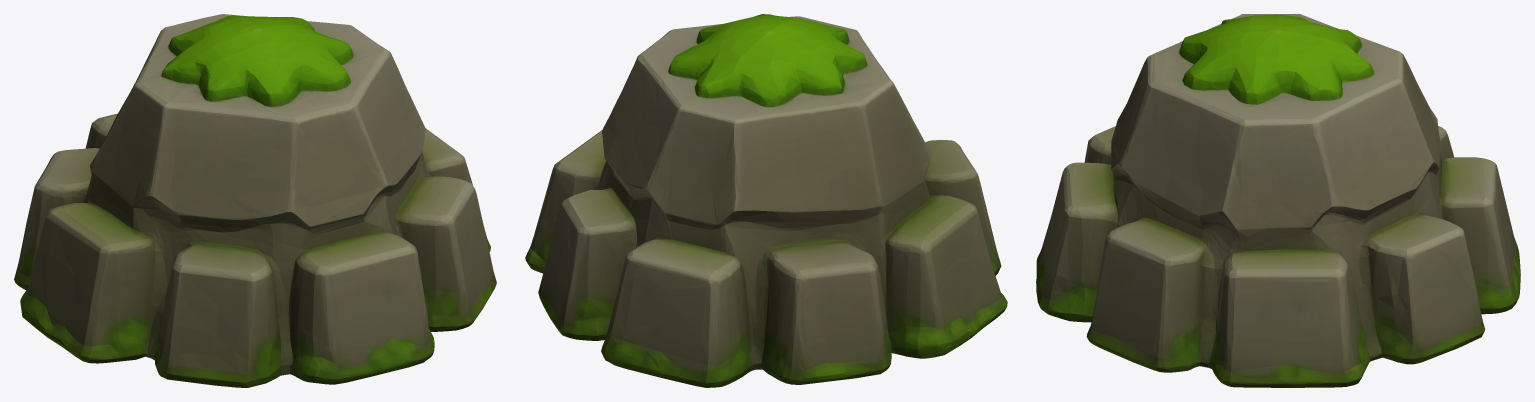
File: grassy_rock.glb
3 renders of one model, left to right at view 1: azimuth 30°, elevation 25°; view 2: azimuth 150°, elevation 25°; view 3: azimuth 270°, elevation 25°, orthographic.
Parts seen in each view (by area): view 1: geometry_0; view 2: geometry_0; view 3: geometry_0.
Part boxes in pixels (x1,y1,x2,y2): geometry_0: [14, 14, 496, 387]; geometry_0: [525, 14, 1007, 387]; geometry_0: [1036, 14, 1520, 387].
Bounding box in the file's own units: 0.9985 × 0.6003 × 0.9995.
Materials: 1 (1 with a texture image).
